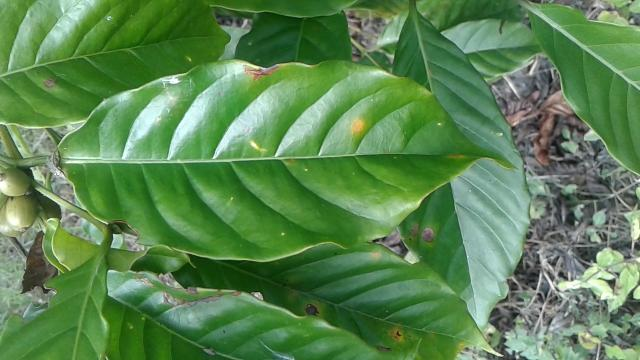rust_level_1: (53, 58, 508, 261)
